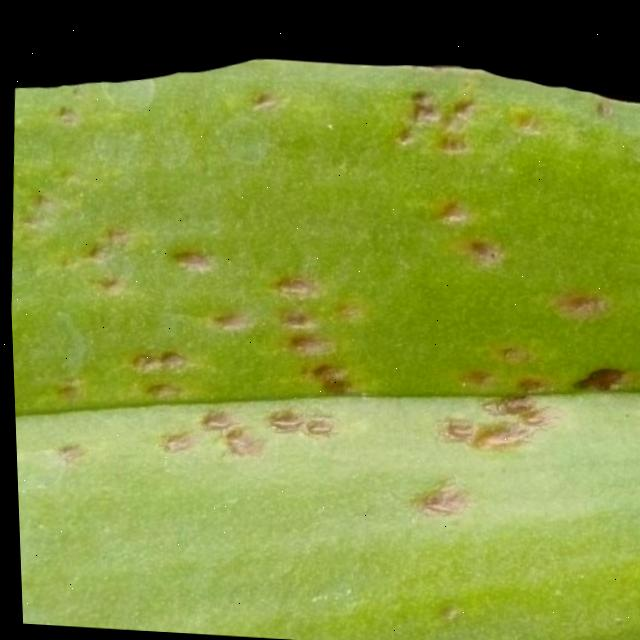mite: (47, 60, 634, 438), (262, 266, 358, 398), (390, 81, 478, 156), (261, 403, 332, 440), (305, 359, 351, 395), (426, 192, 469, 225), (504, 100, 544, 135), (462, 234, 503, 267), (405, 85, 437, 123), (455, 363, 492, 387), (590, 95, 614, 118)
spots: (9, 36, 640, 640)
